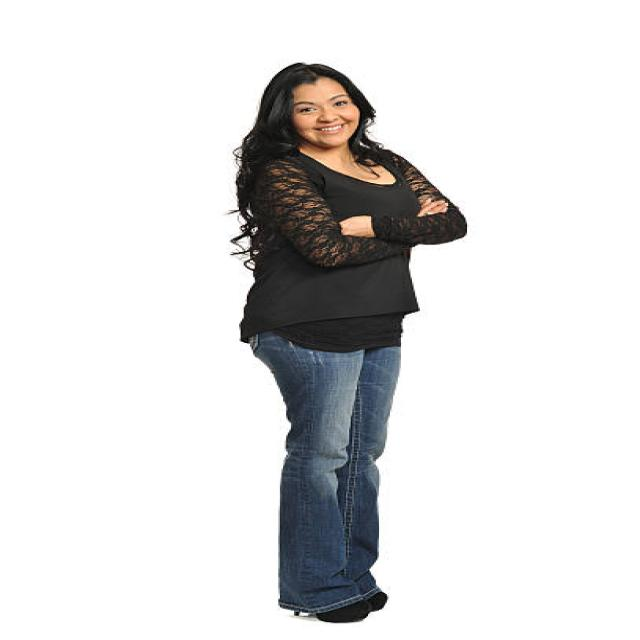Edited images: (209, 50, 475, 631)
